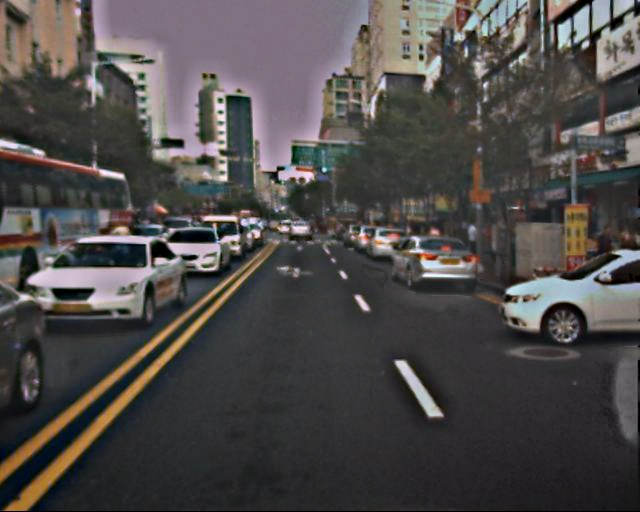person: (591, 224, 619, 293), (461, 215, 483, 273)
